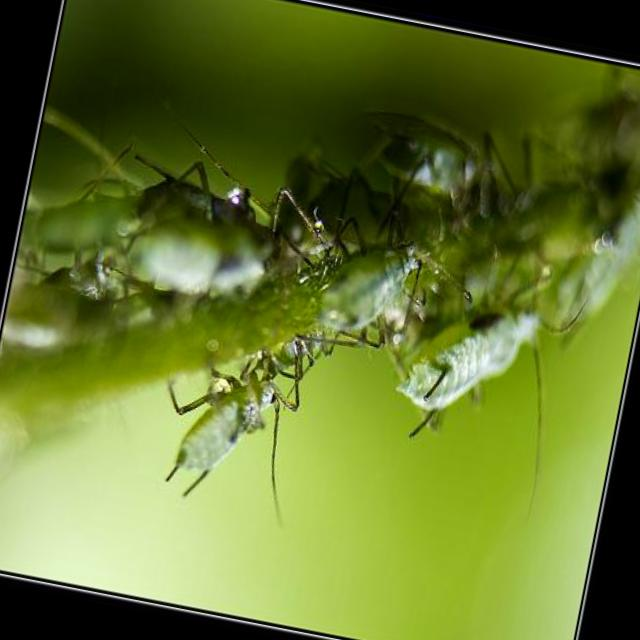Aphids: (378, 236, 607, 506), (275, 172, 482, 376), (150, 352, 304, 516)
